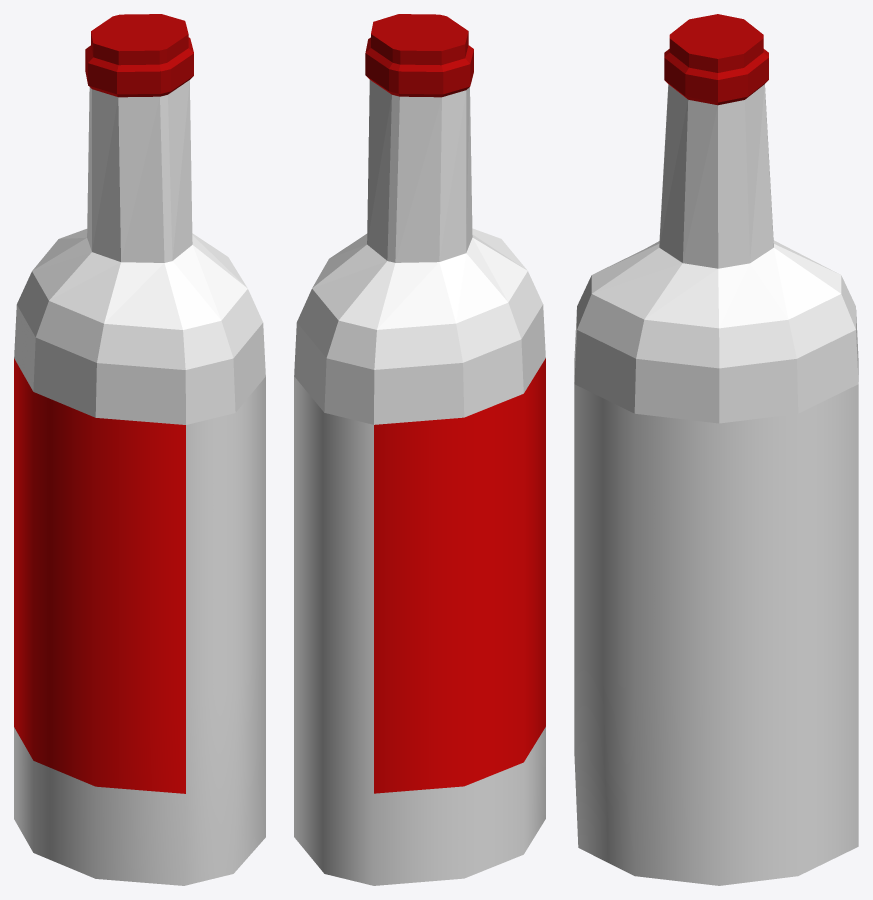
The model's file is BotellaVino1.fbx.
3 renders of one model, left to right at view 1: azimuth 30°, elevation 25°; view 2: azimuth 150°, elevation 25°; view 3: azimuth 270°, elevation 25°, orthographic.
Parts seen in each view (by area): view 1: BotellaVino_LOD00; view 2: BotellaVino_LOD00; view 3: BotellaVino_LOD00.
Part boxes in pixels (x1,y1,x2,y2): BotellaVino_LOD00: (14, 14, 265, 885); BotellaVino_LOD00: (294, 14, 545, 885); BotellaVino_LOD00: (574, 14, 858, 885).
Size of what is drawn, in the model's own units: 12.38 by 44.79 by 14.44.
Materials: 1 (1 with a texture image).
